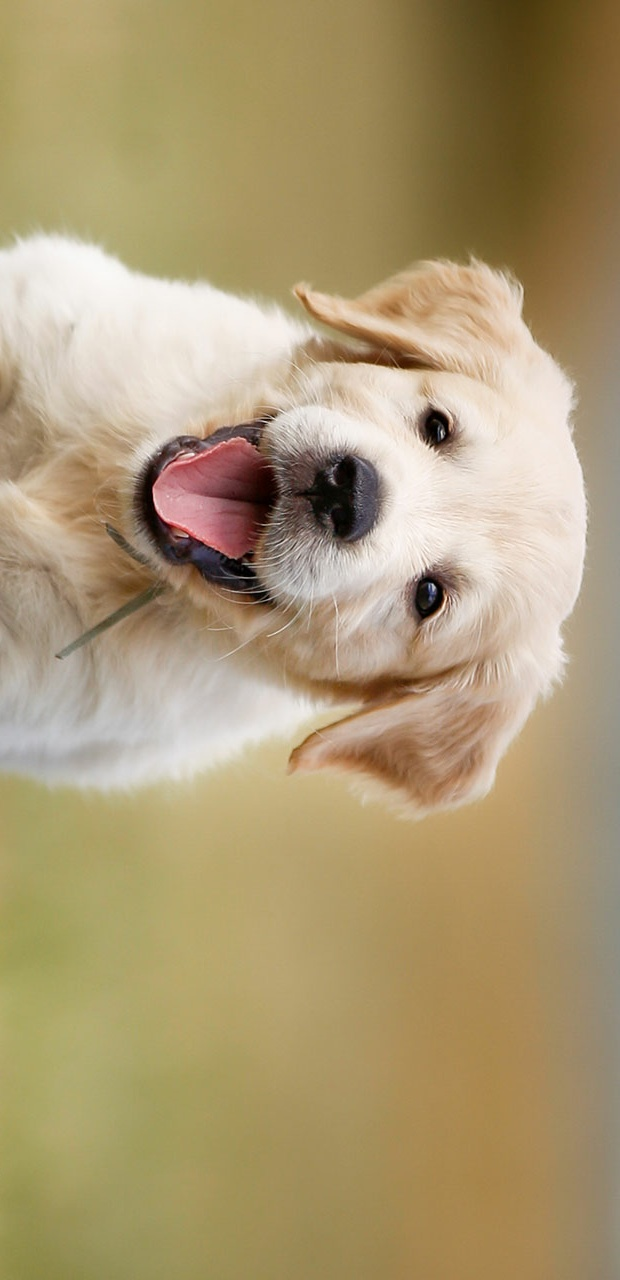dog: (122, 255, 588, 812)
